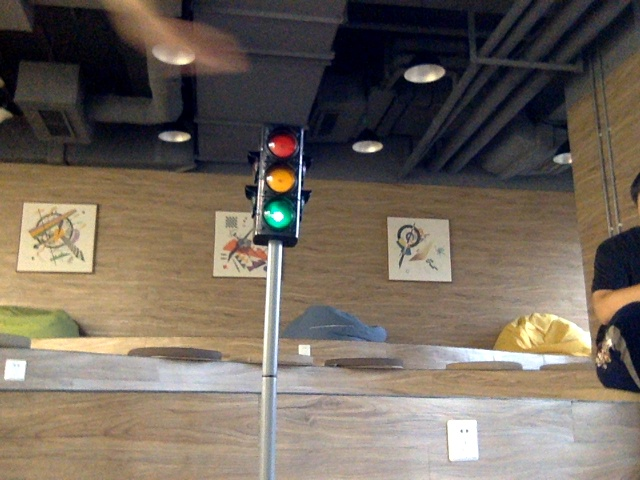green: (260, 130, 298, 232)
